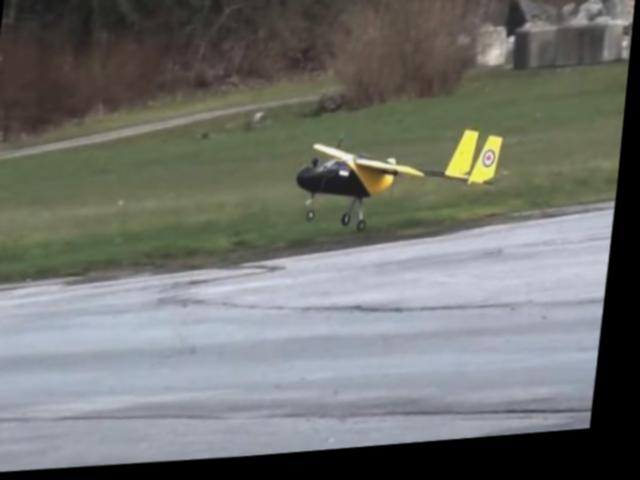iha: (280, 128, 506, 239)
